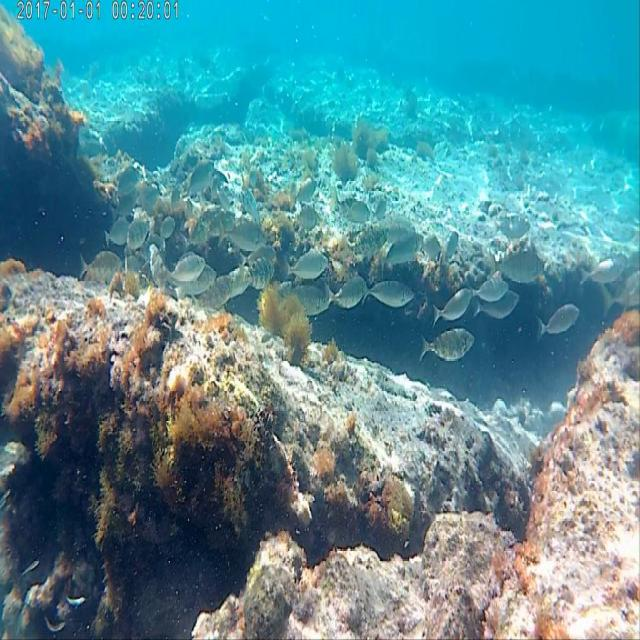Sokar Baligi: (415, 322, 478, 373), (360, 271, 417, 319), (539, 299, 585, 357)
